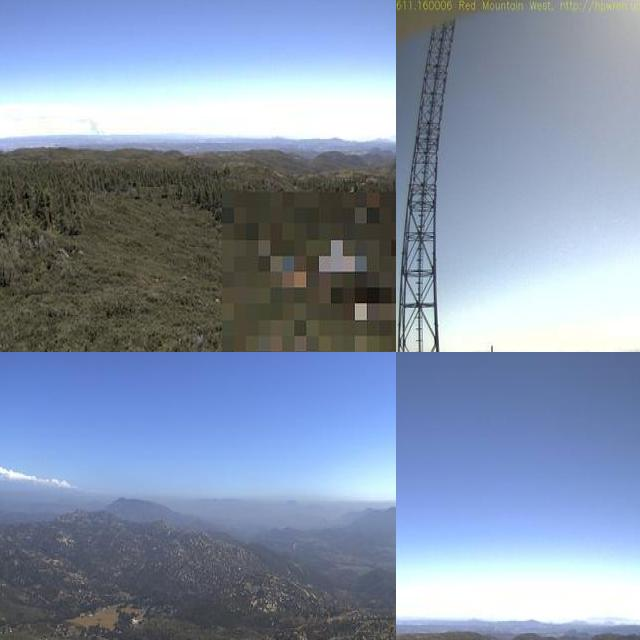smoke: (77, 111, 106, 138), (530, 342, 573, 352)
